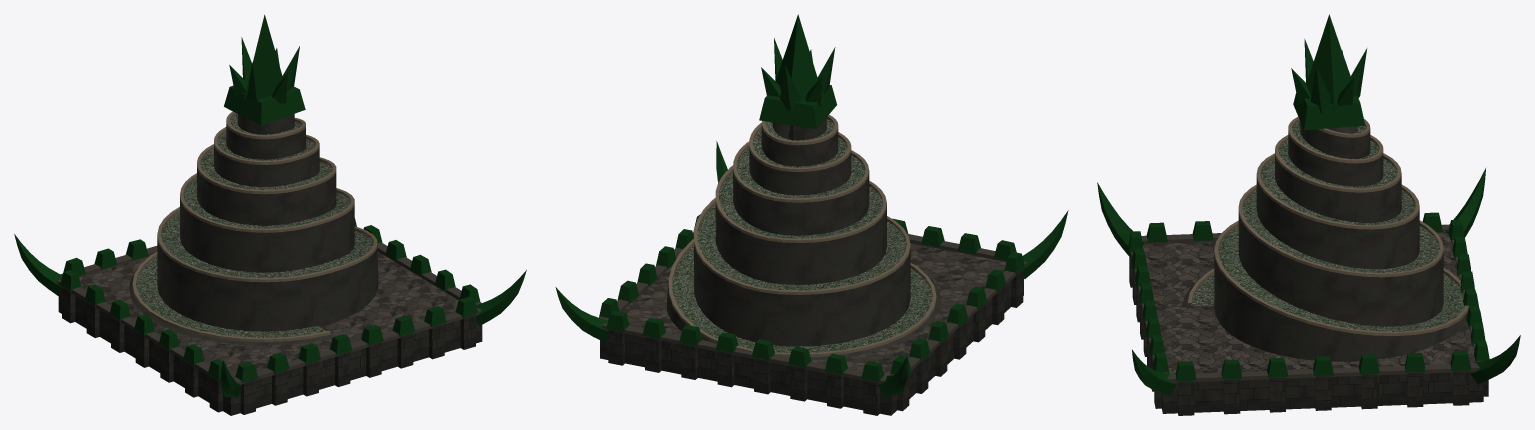
Rendered from Tarbuild01.glb.
3 views of the same model, side by side, from view 1: azimuth 30°, elevation 25°; view 2: azimuth 150°, elevation 25°; view 3: azimuth 270°, elevation 25° (orthographic). The views are drawn at different scales.
Visible parts, largest first — view 1: Tarbuild01; view 2: Tarbuild01; view 3: Tarbuild01.
Part boxes in pixels (left/top/right/bottom): Tarbuild01: left=14, top=14, right=526, bottom=415; Tarbuild01: left=555, top=14, right=1068, bottom=415; Tarbuild01: left=1097, top=14, right=1520, bottom=415.
Size of the model in its own units: 18.82 by 15.78 by 18.55.
7 materials, 4 textured.
